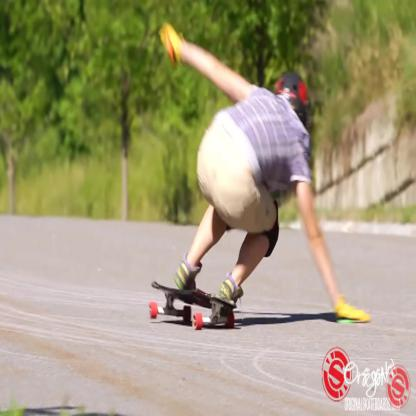Fall_Down: (161, 20, 370, 323)
